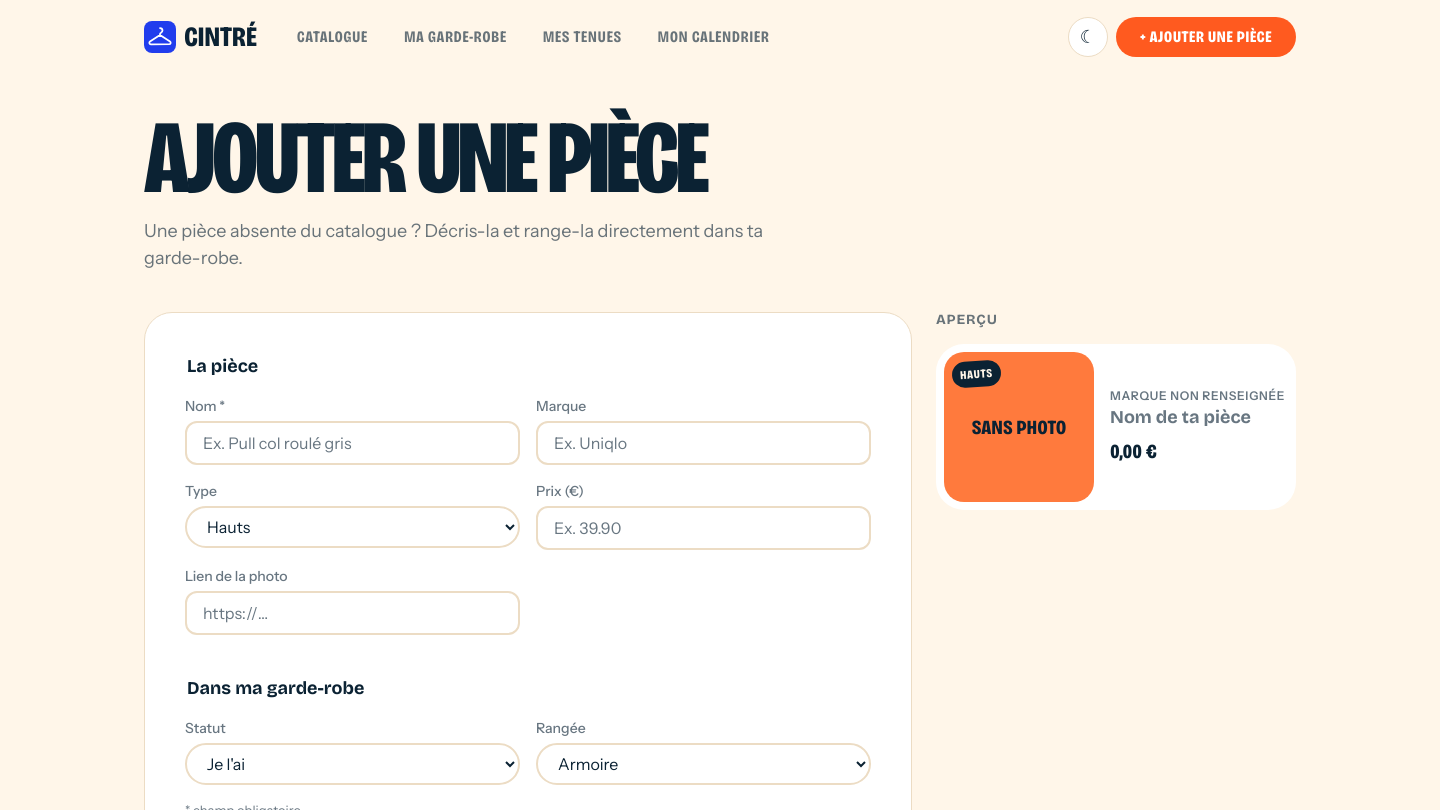
Test case: Ajouter une pièce : formulaire › refuse un prix négatif et un lien de photo invalide
Type "Veste" into the field labelled "Nom *" at (352, 443), box [185,421,520,465]
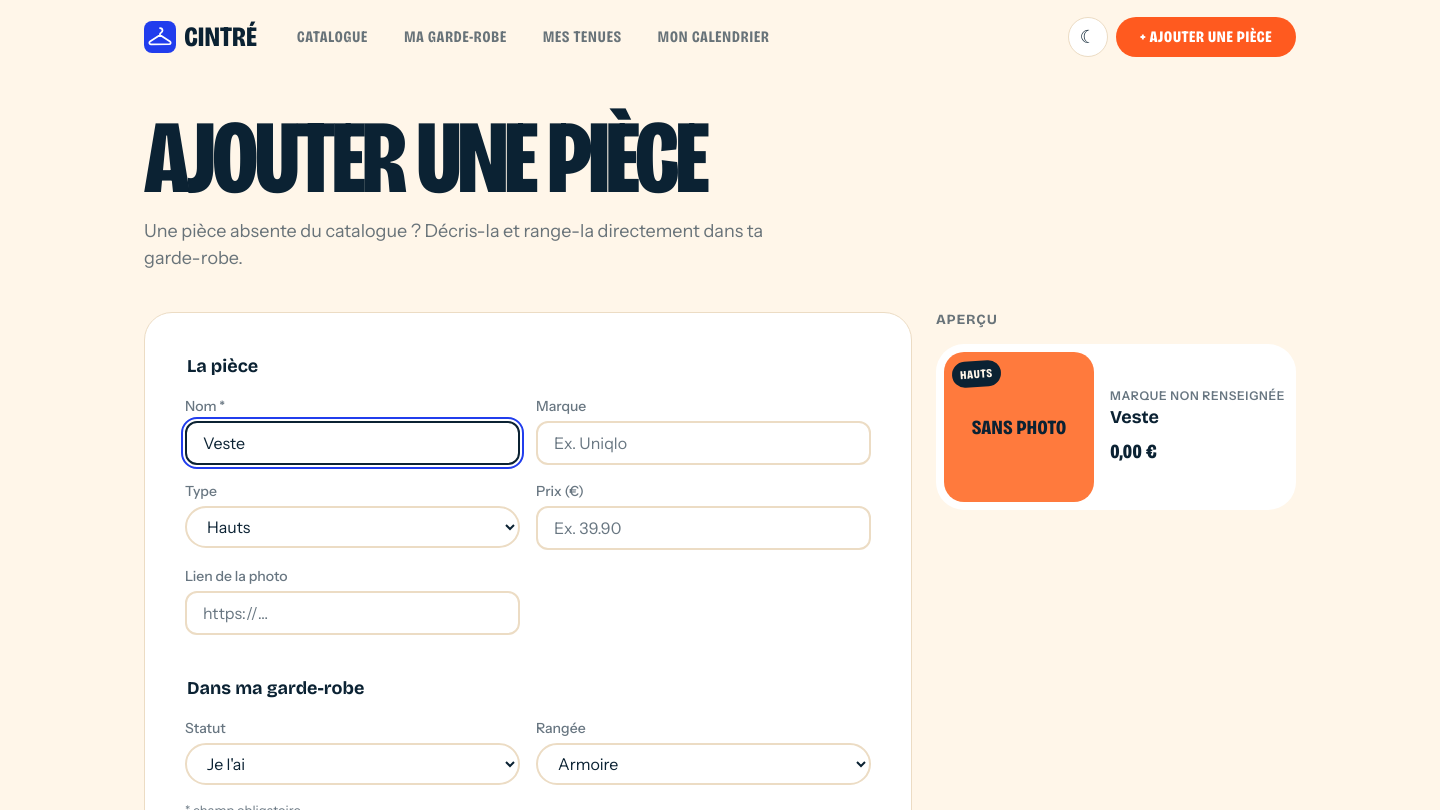
Type "-5" into the number field labelled "Prix (€)" at (704, 528), box [536,506,871,550]
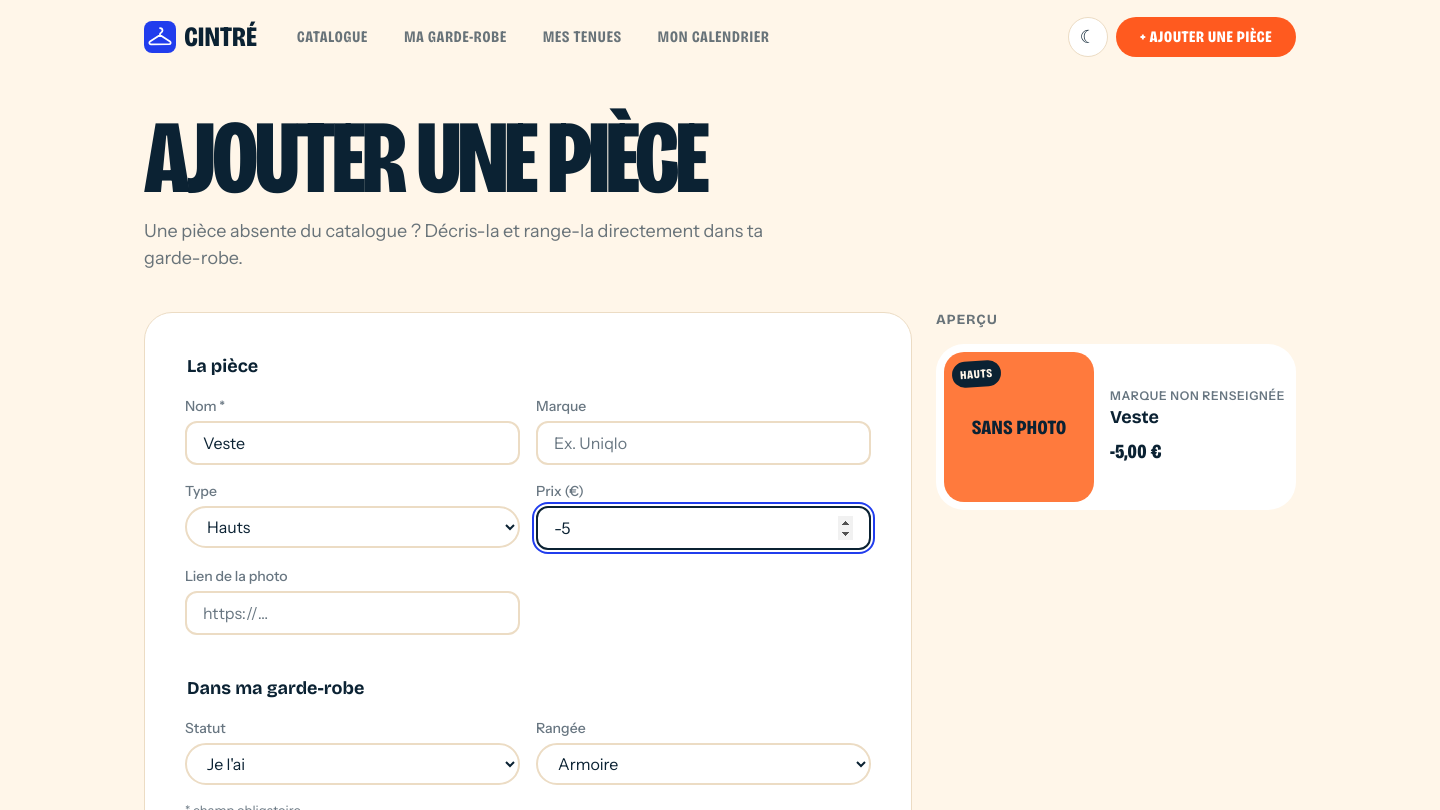
Type "pas un lien" into the field labelled "Lien de la photo" at (352, 613), box [185,591,520,635]
(page scrolled)
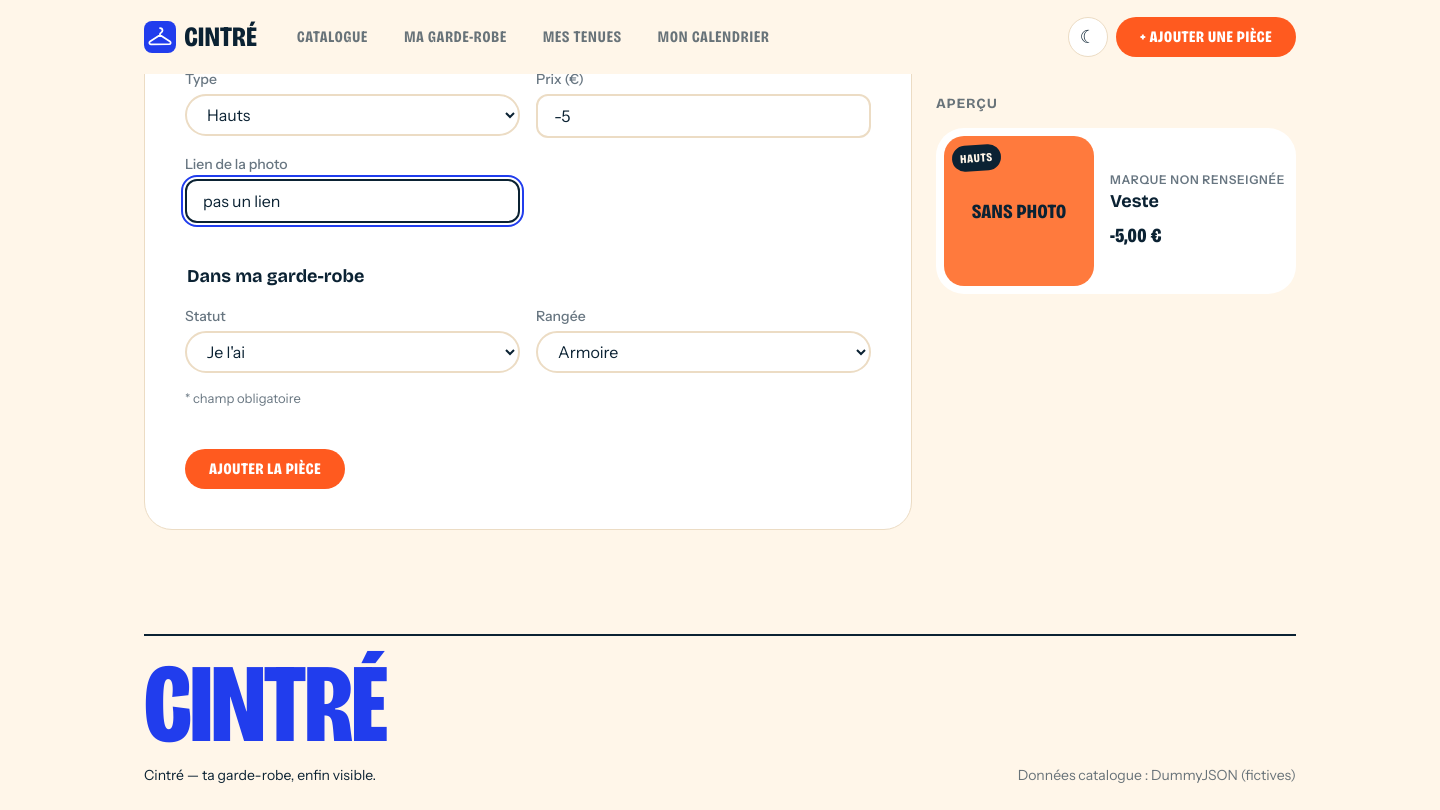
Click the button "Ajouter la pièce" at (265, 469), box [185,449,345,489]
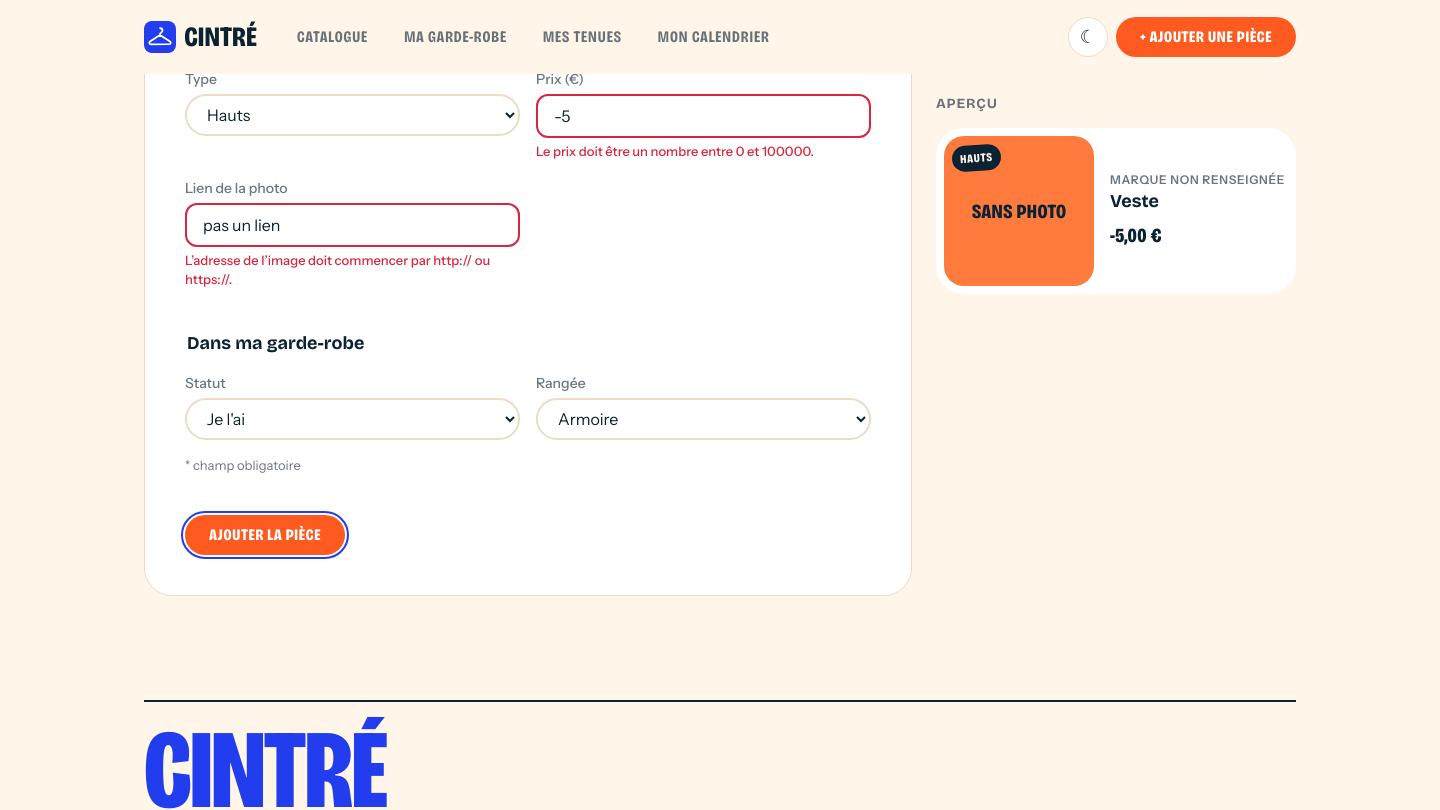
expect the text "Le prix doit être un nombre entre 0 et 100000." is shown: met, box [536,143,814,159]
expect the text "L’adresse de l’image doit commencer par http:// ou https://." is shown: met, box [185,251,520,290]
